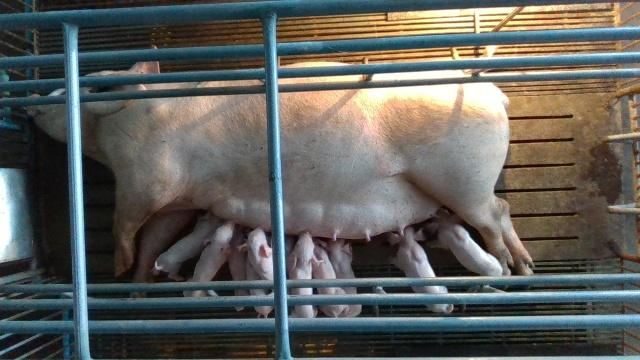piglet: (388, 227, 455, 316), (424, 212, 510, 277), (152, 214, 217, 279), (314, 237, 365, 318), (232, 228, 274, 317), (187, 222, 236, 297), (285, 234, 321, 318), (312, 243, 349, 316)
sow-sleep-lactate: (15, 57, 532, 290)
